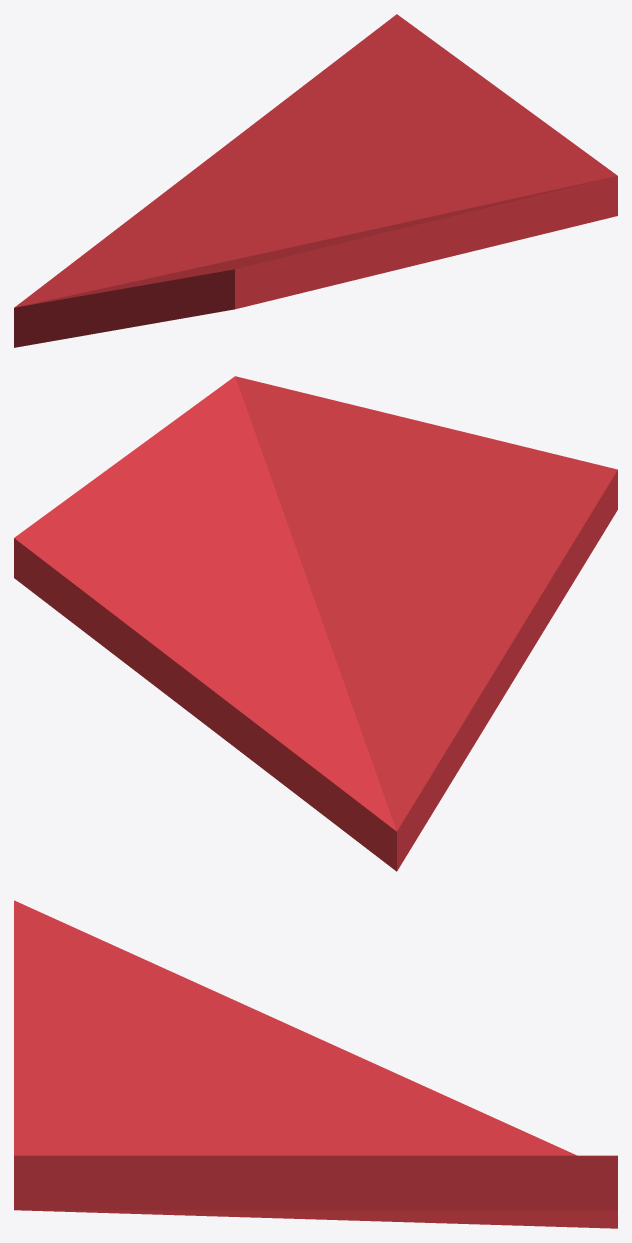
File: roof_small_corner_inner.glb
3 renders of one model, top to bottom at view 1: azimuth 30°, elevation 25°; view 2: azimuth 150°, elevation 25°; view 3: azimuth 270°, elevation 25°, orthographic. The views are drawn at different scales.
Visible parts, largest first — view 1: roof_small_corner_inner; view 2: roof_small_corner_inner; view 3: roof_small_corner_inner.
Boxes of the visible parts, bbox=[...] form: roof_small_corner_inner: bbox=[14, 14, 617, 347]; roof_small_corner_inner: bbox=[14, 376, 617, 871]; roof_small_corner_inner: bbox=[14, 900, 617, 1228].
Size of the model in its own units: 1 by 0.6 by 1.
